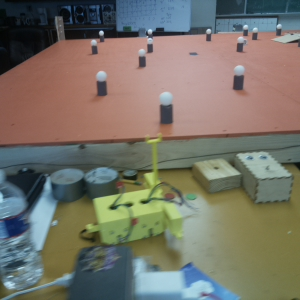obstacle: (158, 91, 173, 124), (232, 64, 243, 93), (96, 71, 106, 95), (237, 36, 245, 53), (139, 49, 146, 67), (252, 27, 260, 42), (90, 40, 97, 54), (98, 29, 105, 42), (242, 25, 249, 38), (147, 37, 153, 52), (276, 24, 283, 35), (206, 29, 211, 43), (148, 29, 154, 40)
slope: (274, 33, 300, 46)
